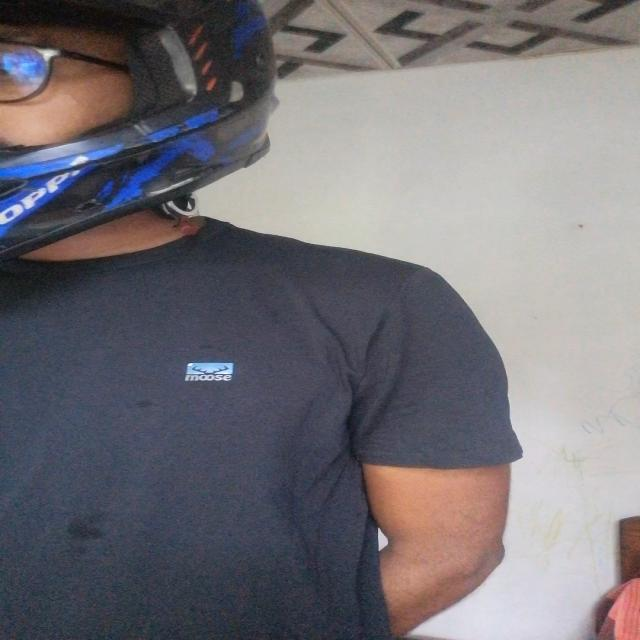Helmet_Wearer: (0, 0, 312, 298)
